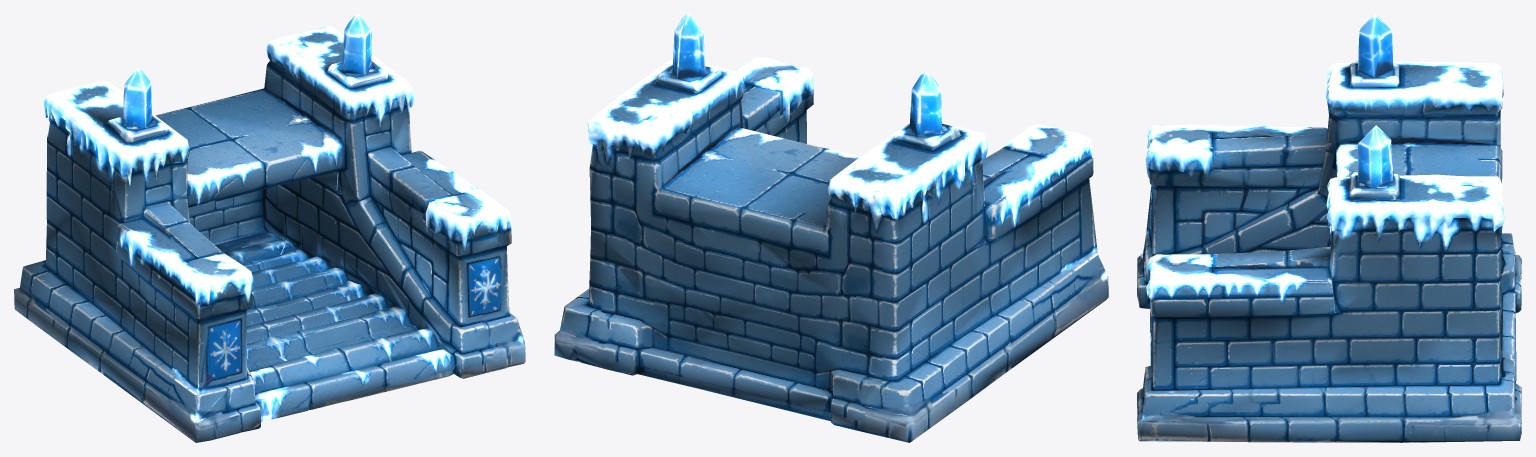
The model's file is IceDungeonStairs.glb.
3 views of the same model, side by side, from view 1: azimuth 30°, elevation 25°; view 2: azimuth 150°, elevation 25°; view 3: azimuth 270°, elevation 25° (orthographic). The views are drawn at different scales.
Parts seen in each view (by area): view 1: Mesh_0; view 2: Mesh_0; view 3: Mesh_0.
Boxes of the visible parts, box(x1,y1,x2,y2) form: Mesh_0: box(14, 14, 525, 442); Mesh_0: box(554, 14, 1108, 442); Mesh_0: box(1137, 14, 1521, 442).
Bounding box in the file's own units: 1.91 × 1.54 × 1.85.
1 material, 1 textured.
